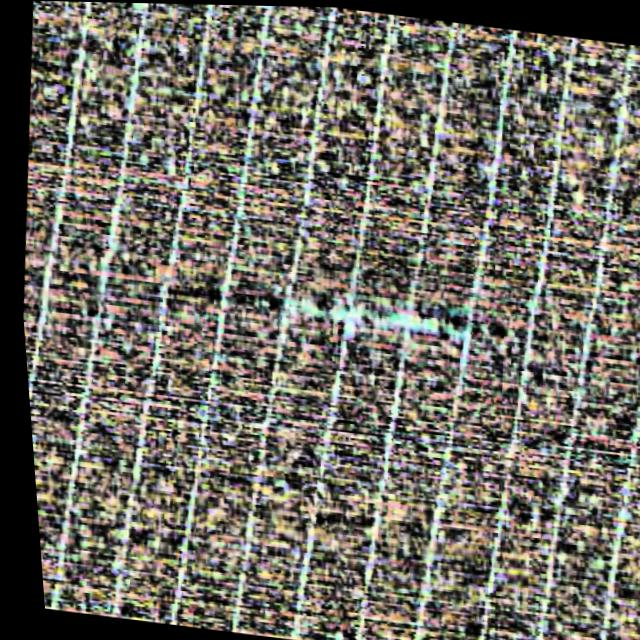Stitch: (239, 265, 476, 364)
